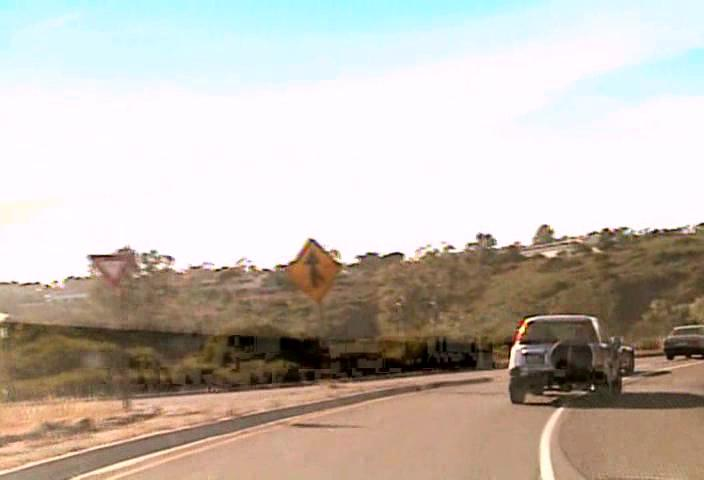yield: (86, 252, 132, 288)
